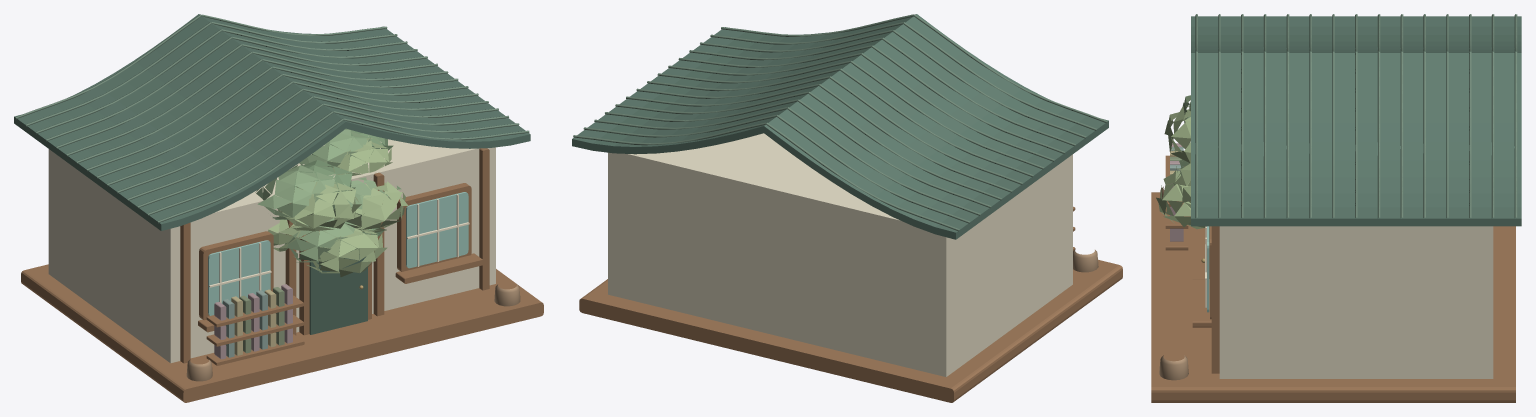
File: environment.glb
3 views of the same model, side by side, from view 1: azimuth 30°, elevation 25°; view 2: azimuth 150°, elevation 25°; view 3: azimuth 270°, elevation 25° (orthographic). The views are drawn at different scales.
Parts seen in each view (by area): view 1: library, tree; view 2: library; view 3: library, tree.
Part boxes in pixels (x1,y1,x2,y2): library: (14, 14, 543, 402); tree: (255, 128, 408, 276); library: (572, 14, 1122, 402); library: (1151, 14, 1521, 402); tree: (1156, 95, 1205, 229).
Bounding box in the file's own units: 8.45 × 5.33 × 6.5.
